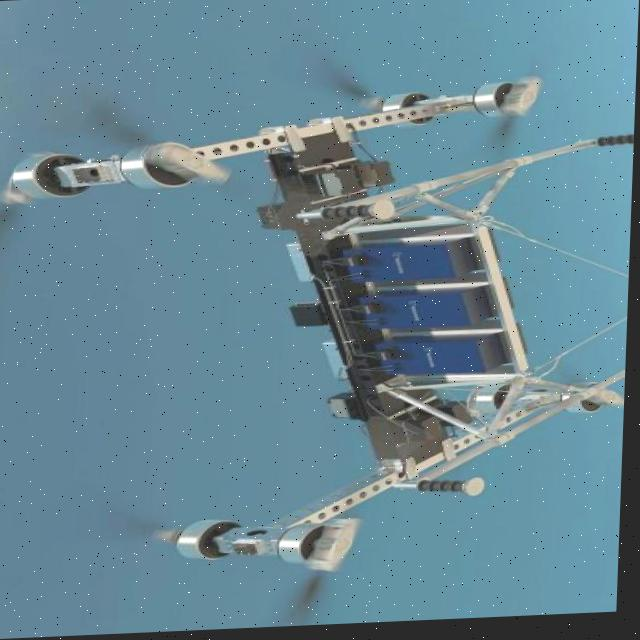drone: (52, 20, 615, 614)
